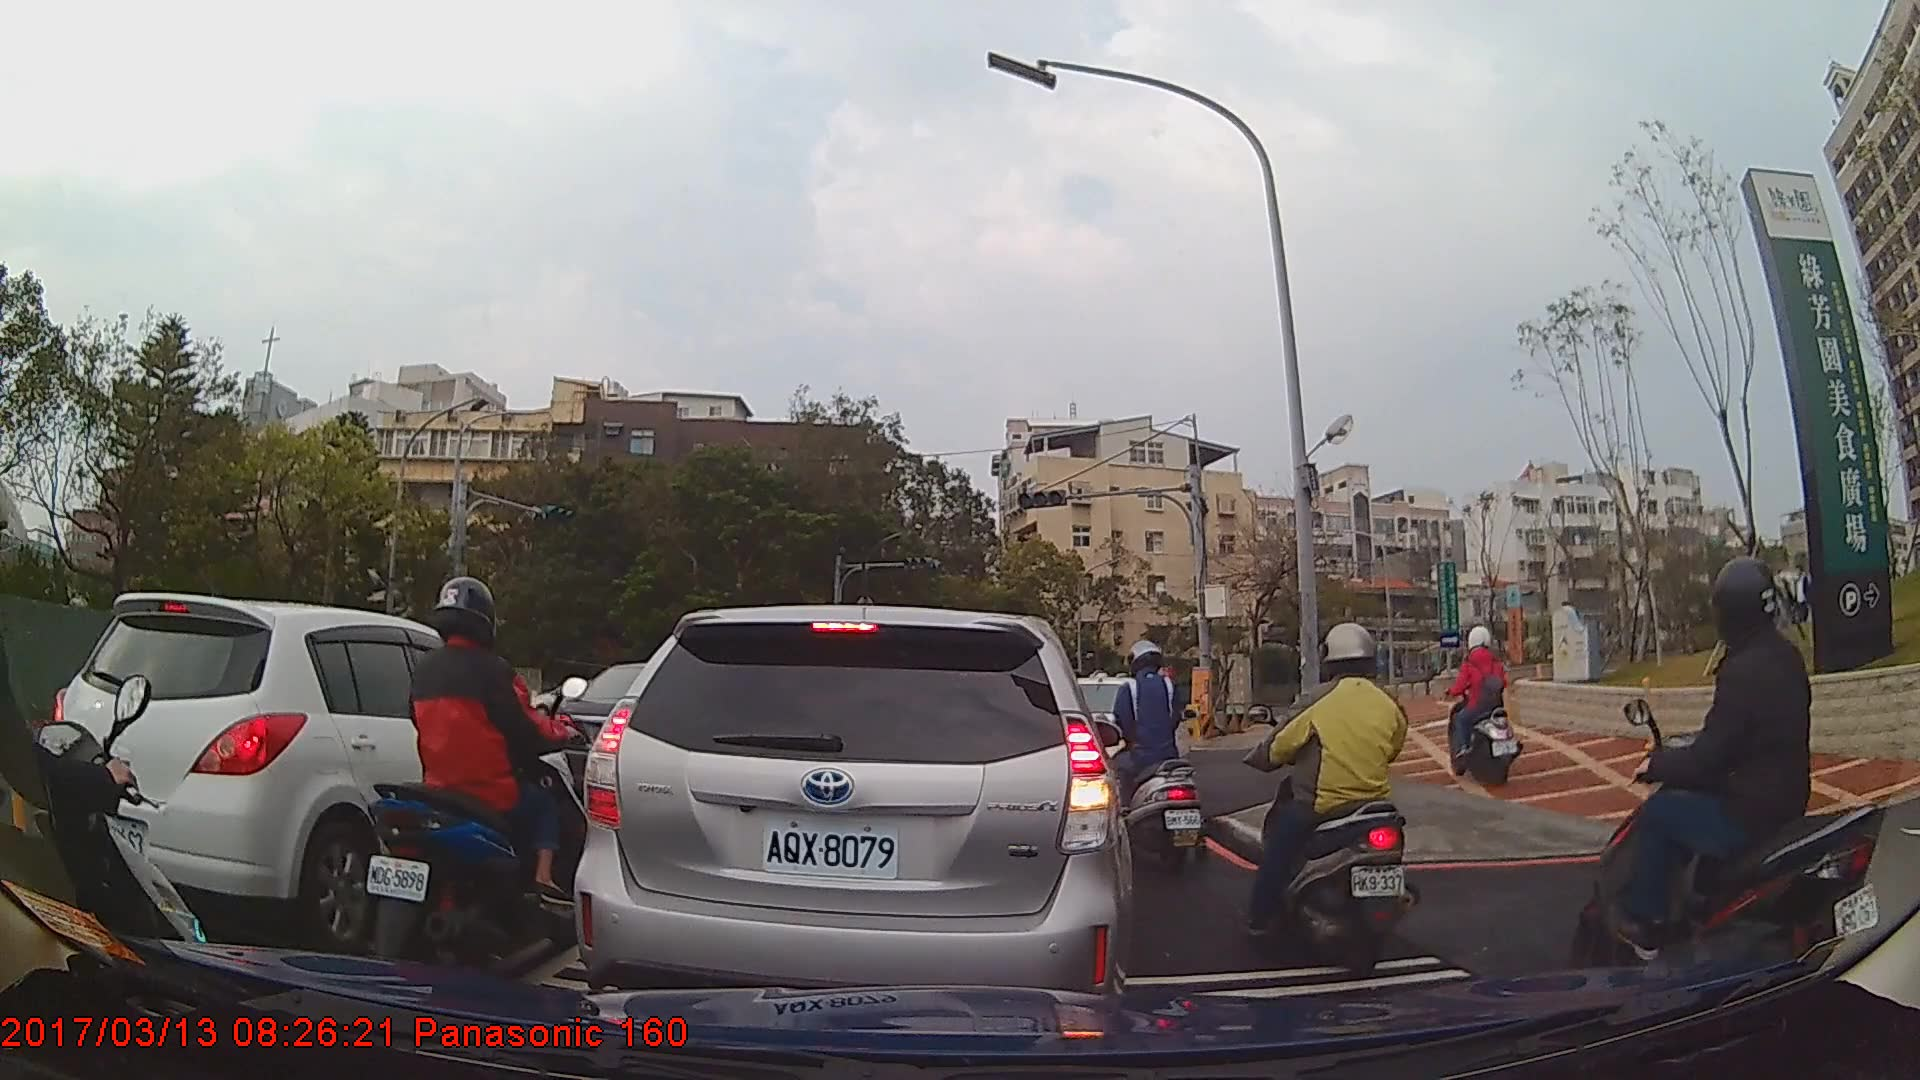rider: (1585, 553, 1890, 1021), (364, 571, 591, 983), (1240, 621, 1425, 960), (1103, 641, 1211, 867), (1444, 625, 1523, 787)
vehicle: (571, 602, 1134, 1032), (45, 591, 577, 955)
